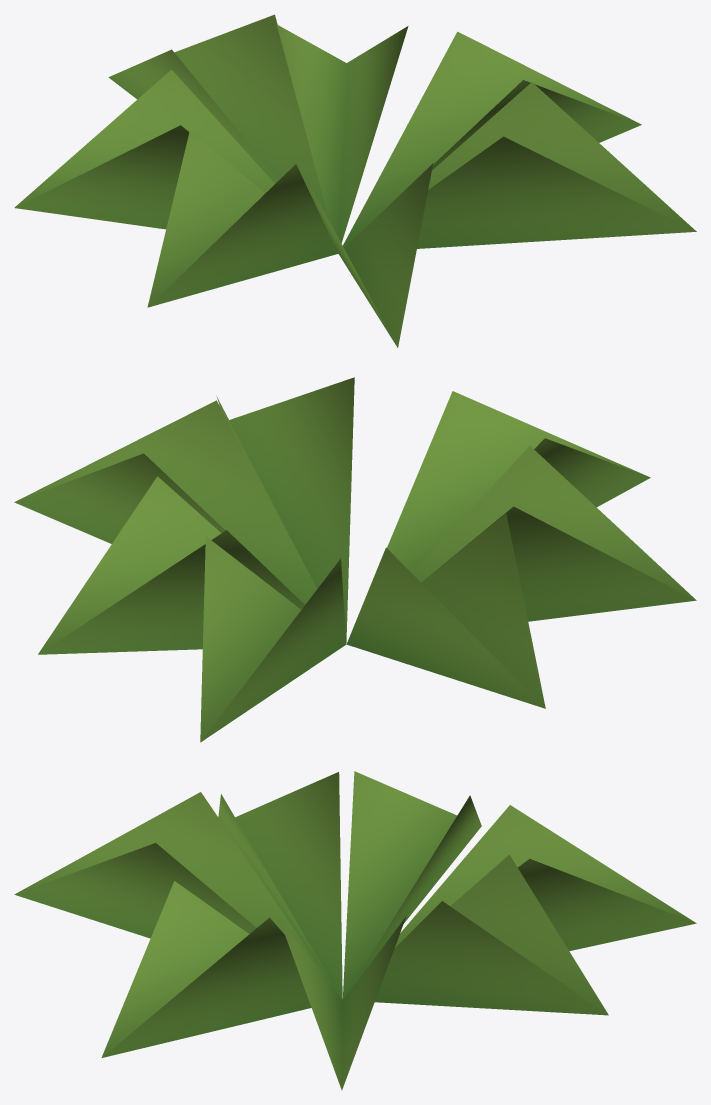
File: prop.bamboo_fern.glb
3 views of the same model, one above another, from view 1: azimuth 30°, elevation 25°; view 2: azimuth 150°, elevation 25°; view 3: azimuth 270°, elevation 25° (orthographic). The views are drawn at different scales.
Parts seen in each view (by area): view 1: bamboo_fern; view 2: bamboo_fern; view 3: bamboo_fern.
Boxes of the visible parts, box(x1,y1,x2,y2) form: bamboo_fern: box(14, 14, 696, 347); bamboo_fern: box(14, 377, 696, 742); bamboo_fern: box(14, 771, 696, 1090).
Size of the model in its own units: 1.27 by 0.35 by 1.38.
